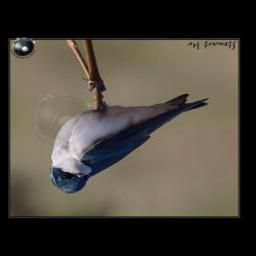Swallow: (49, 94, 211, 195)
